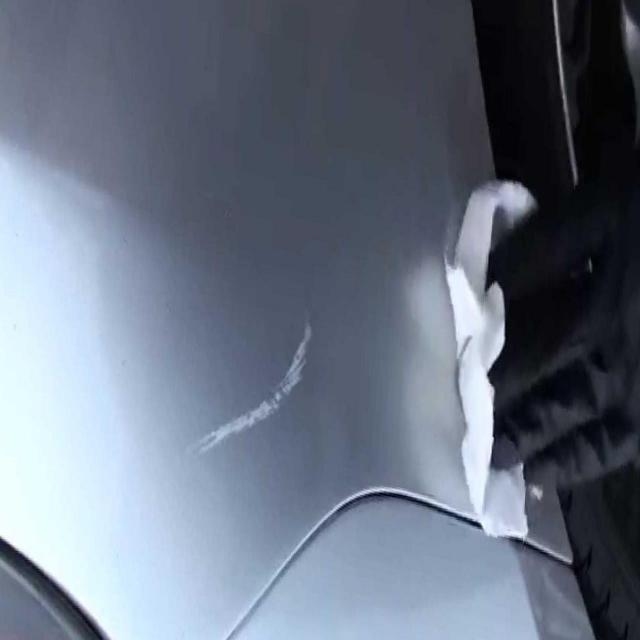scratch: (192, 312, 322, 472)
